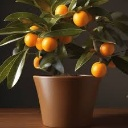orange: (40, 35, 58, 52)
